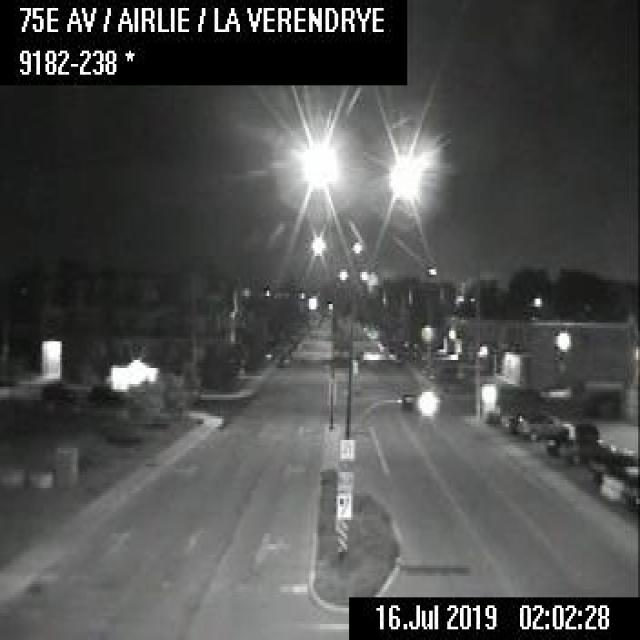vehicle: (556, 421, 613, 460), (515, 409, 568, 443), (598, 463, 637, 500), (545, 421, 574, 452), (85, 381, 121, 405), (273, 352, 291, 366)
